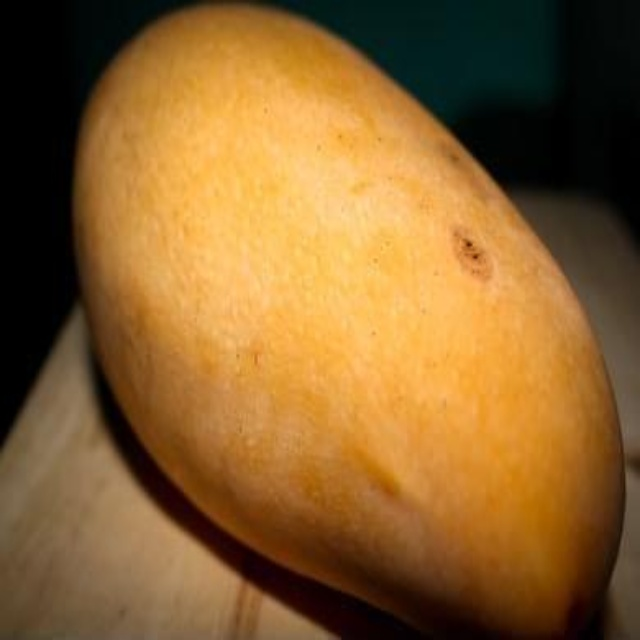mango: (73, 5, 625, 631)
